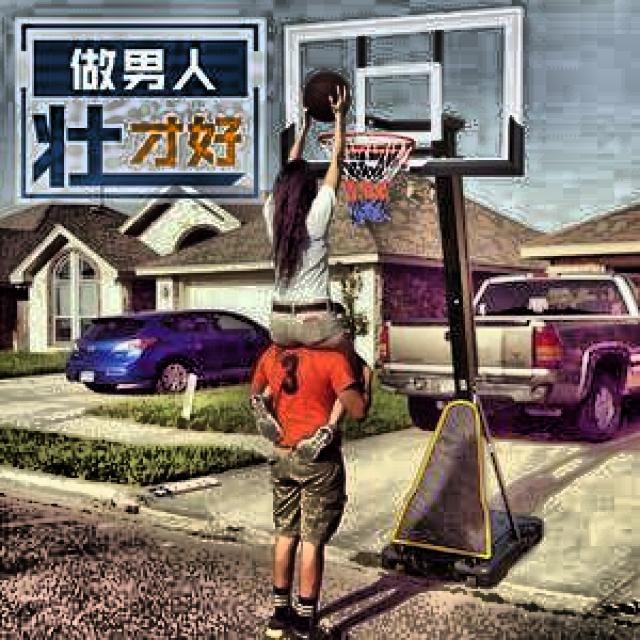board: (303, 70, 350, 121)
